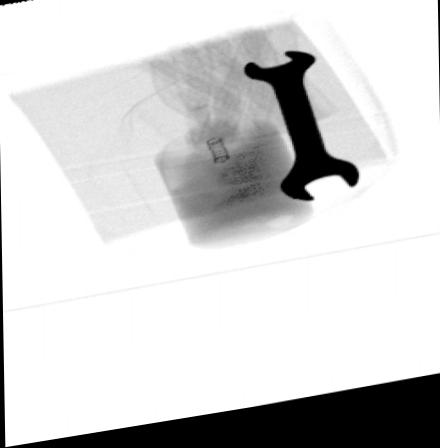Wrench: (240, 57, 360, 211)
